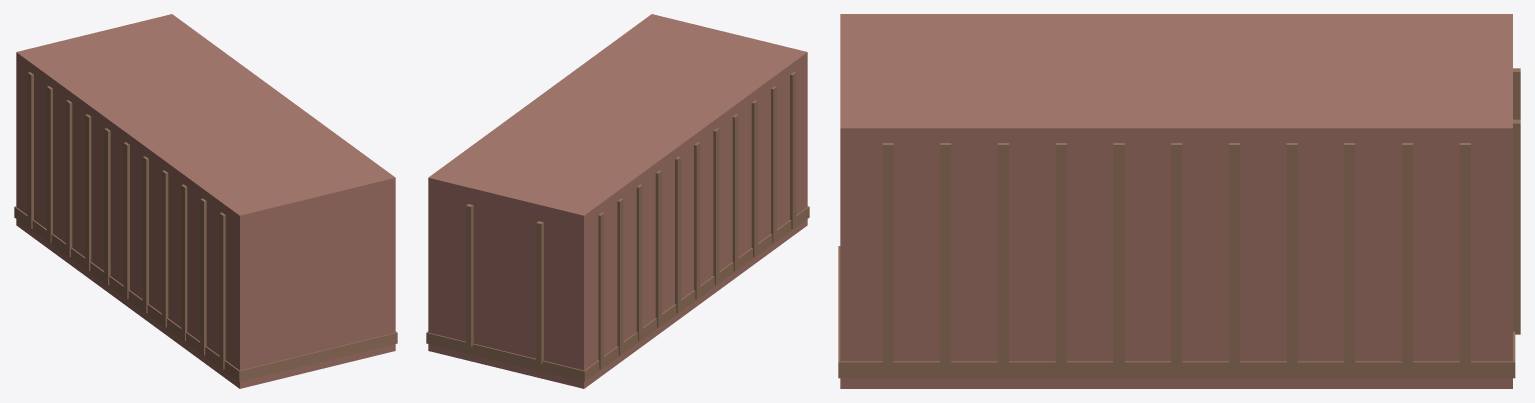
The model's file is container.glb.
The picture shows the model from 3 angles, left to right: view 1: azimuth 30°, elevation 25°; view 2: azimuth 150°, elevation 25°; view 3: azimuth 270°, elevation 25°; orthographic projection. The views are drawn at different scales.
Parts seen in each view (by area): view 1: container; view 2: container; view 3: container.
Boxes of the visible parts, box(x1,y1,x2,y2) form: container: box(14, 14, 397, 388); container: box(426, 14, 809, 388); container: box(838, 14, 1520, 388).
Bounding box in the file's own units: 2.52 × 2.59 × 6.15.
